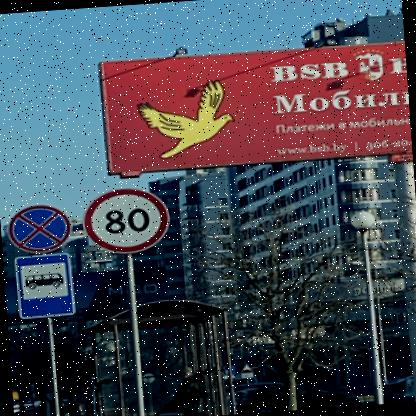speedlimit: (78, 183, 170, 258)
